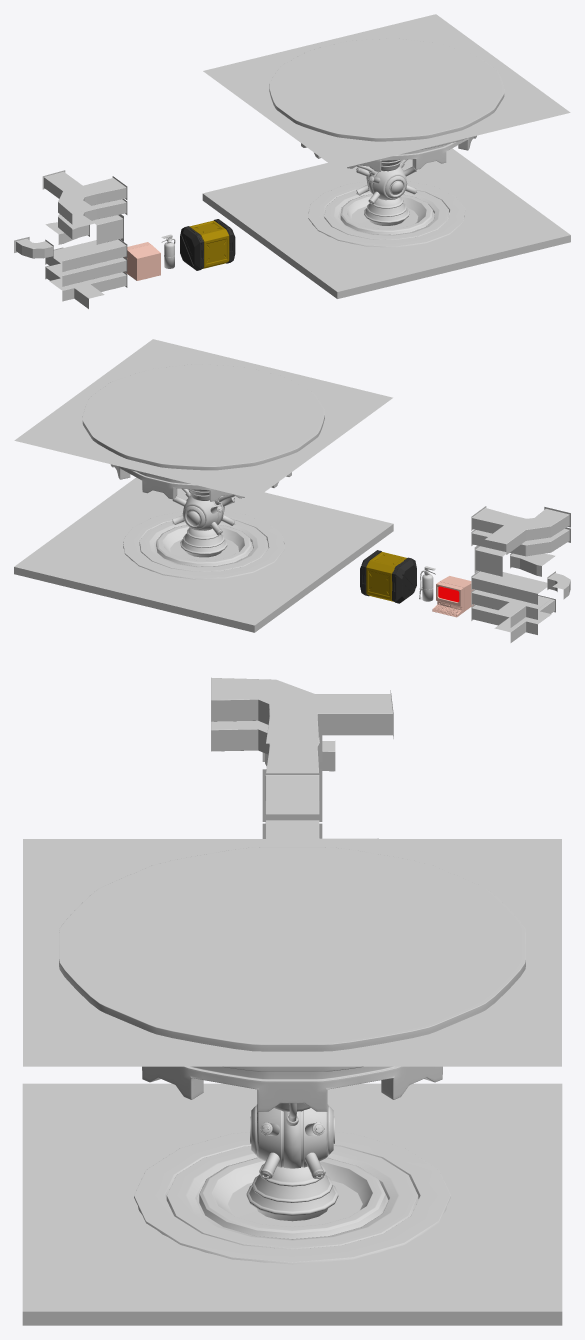
Rendered from AssetPack2.glb.
The picture shows the model from 3 angles, top to bottom: view 1: azimuth 30°, elevation 25°; view 2: azimuth 150°, elevation 25°; view 3: azimuth 270°, elevation 25°; orthographic projection. The views are drawn at different scales.
Visible parts, largest first — view 1: Reactor V2, Plane.014, Vent 6, Box, Vent 1, Vent 4, Vent 3, Computer, Vent 5, Vent 2, Vent 7, Vent 8; view 2: Reactor V2, Plane.014, Vent 6, Box, Vent 1, Vent 4, Vent 3, Vent 5, Computer, Vent 2, Vent 8, Fire Extinguisher (+1 smaller); view 3: Reactor V2, Plane.014, Vent 6, Vent 5, Vent 2, Vent 1.
Part boxes in pixels (left/top/right/bottom): Reactor V2: left=202, top=38, right=570, bottom=298; Plane.014: left=203, top=14, right=570, bottom=169; Vent 6: left=42, top=170, right=127, bottom=224; Box: left=180, top=219, right=235, bottom=270; Vent 1: left=53, top=239, right=127, bottom=271; Vent 4: left=45, top=265, right=127, bottom=308; Vent 3: left=45, top=247, right=127, bottom=286; Computer: left=124, top=242, right=160, bottom=280; Vent 5: left=58, top=199, right=127, bottom=238; Vent 2: left=92, top=214, right=123, bottom=244; Vent 7: left=14, top=237, right=53, bottom=258; Vent 8: left=45, top=222, right=89, bottom=244; Reactor V2: left=14, top=364, right=393, bottom=632; Plane.014: left=14, top=339, right=392, bottom=499; Vent 6: left=471, top=506, right=570, bottom=554; Box: left=360, top=550, right=416, bottom=603; Vent 1: left=471, top=571, right=547, bottom=604; Vent 4: left=471, top=595, right=555, bottom=642; Vent 3: left=471, top=589, right=551, bottom=627; Vent 5: left=471, top=527, right=570, bottom=556; Computer: left=432, top=576, right=473, bottom=617; Vent 2: left=474, top=545, right=506, bottom=576; Vent 8: left=510, top=553, right=554, bottom=576; Fire Extinguisher: left=419, top=566, right=435, bottom=601; Reactor V2: left=22, top=847, right=562, bottom=1325; Plane.014: left=23, top=839, right=561, bottom=1066; Vent 6: left=211, top=677, right=393, bottom=743; Vent 5: left=211, top=720, right=318, bottom=773; Vent 2: left=262, top=769, right=322, bottom=820; Vent 1: left=262, top=801, right=322, bottom=838.
Size of the model in its own units: 77.78 by 20.67 by 37.94.
